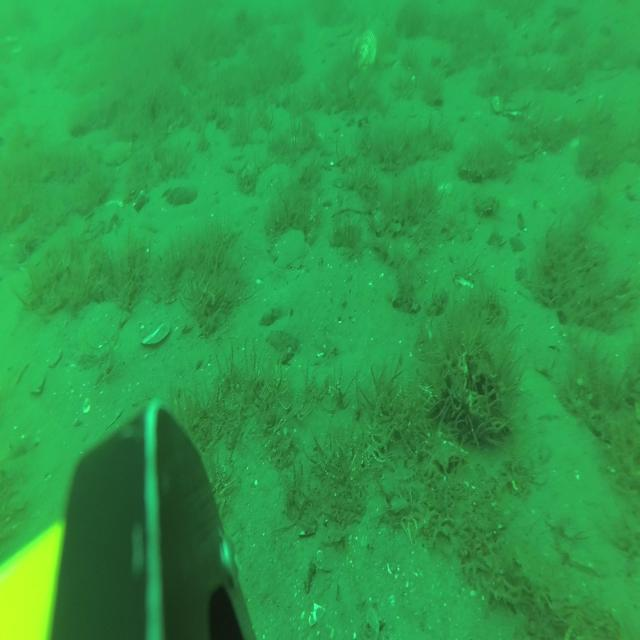scallop: (80, 302, 127, 345), (272, 229, 310, 266), (494, 86, 536, 116), (353, 32, 376, 73), (104, 140, 132, 165)
